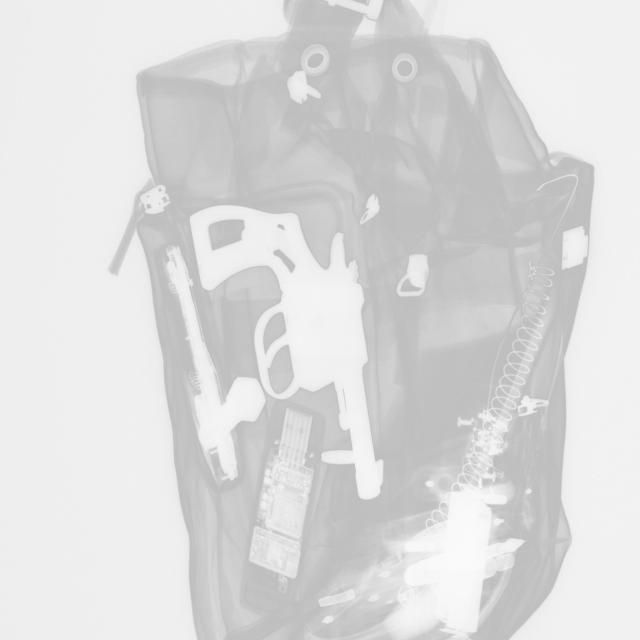pistol: (188, 204, 386, 501)
